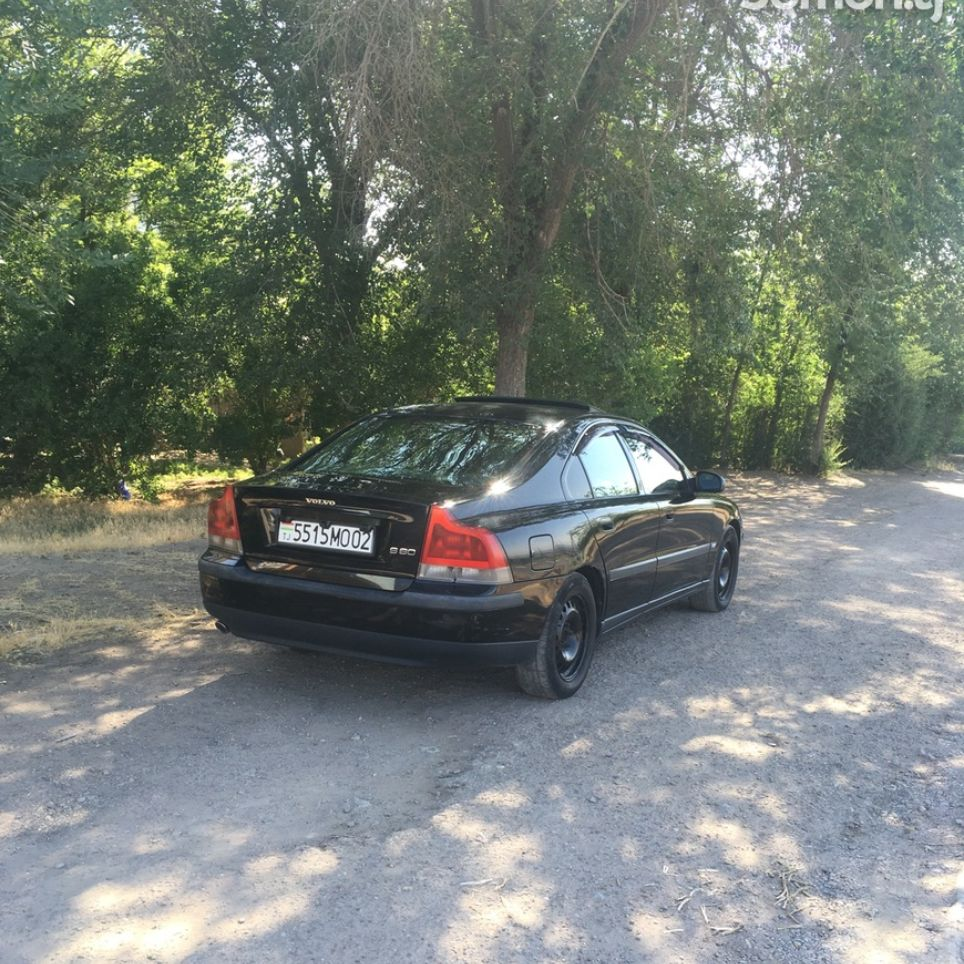license plate: (274, 513, 383, 562)
truck: (189, 395, 758, 702)
